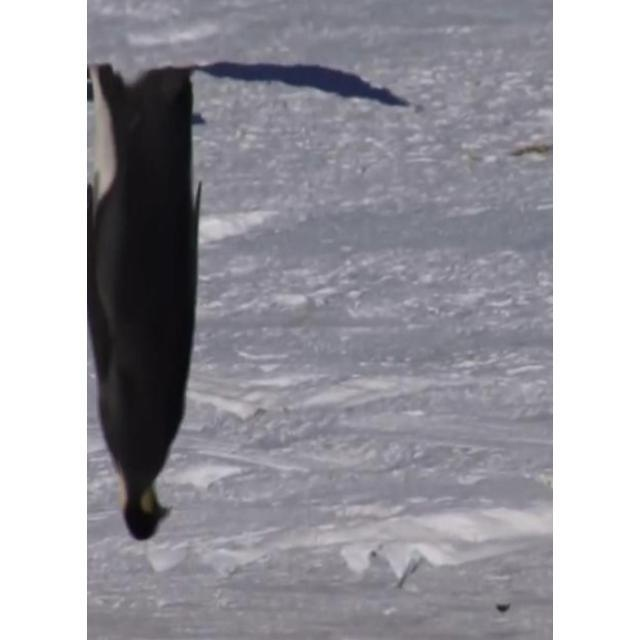penguin: (89, 61, 203, 541)
